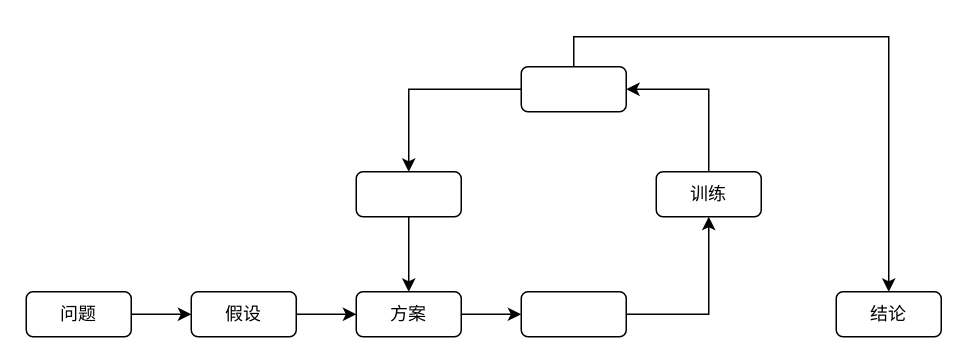
This 968x363 diagram has some shape labels left out. The centre of each missing label's shape, as x and y in pixels:
优化: point (408, 193)
反馈: point (573, 88)
模型: point (573, 313)
